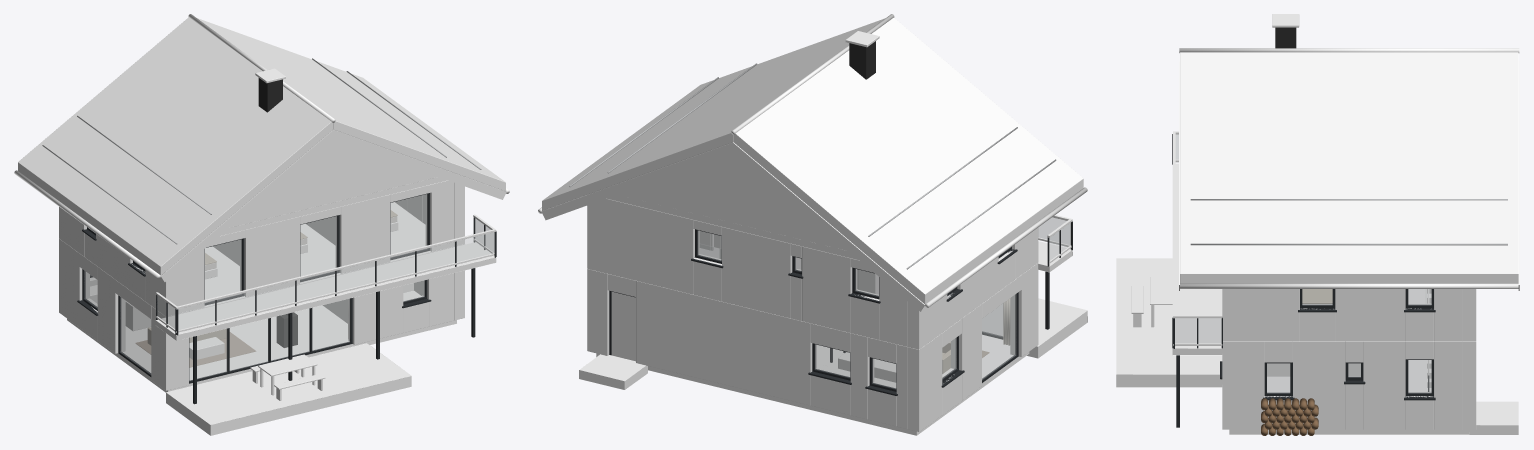
Rendered from chalet_contemporain.glb.
The picture shows the model from 3 angles, left to right: view 1: azimuth 30°, elevation 25°; view 2: azimuth 150°, elevation 25°; view 3: azimuth 270°, elevation 25°; orthographic projection. The views are drawn at different scales.
Parts seen in each view (by area): view 1: Pan de toiture ouest (zinc joints debout), Mur sud R+1 #4, Terrasse, Pan de toiture est (zinc joints debout), Pignon sud, Balcon, Menuiseries — Mur sud RDC #0, Garde-corps balcon — verre, Menuiseries — Mur sud R+1 #4, Mur sud RDC #0, Plancher RDC, Mur ouest RDC #3 (+18 smaller); view 2: Pan de toiture ouest (zinc joints debout), Mur nord RDC #2, Mur nord R+1 #6, Pan de toiture est (zinc joints debout), Pignon nord, Mur ouest RDC #3, Mur ouest R+1 #7, Menuiseries — Mur nord RDC #2, Menuiseries — Mur ouest RDC #3, Plancher RDC, Terrasse, Rive zinc pignon nord -1 (+13 smaller); view 3: Pan de toiture est (zinc joints debout), Mur est RDC #1, Mur est R+1 #5, Terrasse, Balcon, Menuiseries — Mur est RDC #1, Gouttière est, Plancher RDC.001, Faîtière, Menuiseries — Mur est R+1 #5, Parvis d'entrée, Mur nord RDC #2 (+10 smaller).
Boxes of the visible parts, left/top/right/bottom form: Pan de toiture ouest (zinc joints debout): left=18, top=17, right=333, bottom=275; Mur sud R+1 #4: left=160, top=180, right=454, bottom=316; Terrasse: left=166, top=343, right=411, bottom=435; Pan de toiture est (zinc joints debout): left=197, top=18, right=505, bottom=191; Pignon sud: left=206, top=131, right=447, bottom=237; Balcon: left=155, top=242, right=496, bottom=340; Menuiseries — Mur sud RDC #0: left=189, top=280, right=431, bottom=383; Garde-corps balcon — verre: left=157, top=218, right=494, bottom=329; Menuiseries — Mur sud R+1 #4: left=204, top=193, right=429, bottom=305; Mur sud RDC #0: left=160, top=246, right=454, bottom=390; Plancher RDC: left=67, top=305, right=369, bottom=392; Mur ouest RDC #3: left=59, top=238, right=159, bottom=385; Pan de toiture ouest (zinc joints debout): left=733, top=17, right=1083, bottom=303; Mur nord RDC #2: left=587, top=269, right=907, bottom=429; Mur nord R+1 #6: left=587, top=198, right=907, bottom=346; Pan de toiture est (zinc joints debout): left=542, top=18, right=884, bottom=210; Pignon nord: left=607, top=143, right=875, bottom=262; Mur ouest RDC #3: left=908, top=268, right=1031, bottom=431; Mur ouest R+1 #7: left=908, top=232, right=1031, bottom=349; Menuiseries — Mur nord RDC #2: left=609, top=290, right=897, bottom=395; Menuiseries — Mur ouest RDC #3: left=941, top=292, right=1018, bottom=387; Plancher RDC: left=693, top=334, right=1029, bottom=435; Terrasse: left=982, top=298, right=1087, bottom=358; Rive zinc pignon nord -1: left=729, top=142, right=924, bottom=311; Pan de toiture est (zinc joints debout): left=1180, top=52, right=1518, bottom=283; Mur est RDC #1: left=1222, top=341, right=1462, bottom=429; Mur est R+1 #5: left=1222, top=289, right=1462, bottom=341; Terrasse: left=1116, top=258, right=1222, bottom=387; Balcon: left=1172, top=163, right=1222, bottom=355; Menuiseries — Mur est RDC #1: left=1263, top=359, right=1435, bottom=400; Gouttière est: left=1180, top=283, right=1518, bottom=288; Plancher RDC.001: left=1229, top=376, right=1469, bottom=434; Faîtière: left=1179, top=48, right=1519, bottom=53; Menuiseries — Mur est R+1 #5: left=1298, top=289, right=1435, bottom=312; Parvis d'entrée: left=1469, top=401, right=1518, bottom=434; Mur nord RDC #2: left=1462, top=341, right=1476, bottom=429.
Size of the model in its own units: 13.67 by 10.25 by 11.43.
